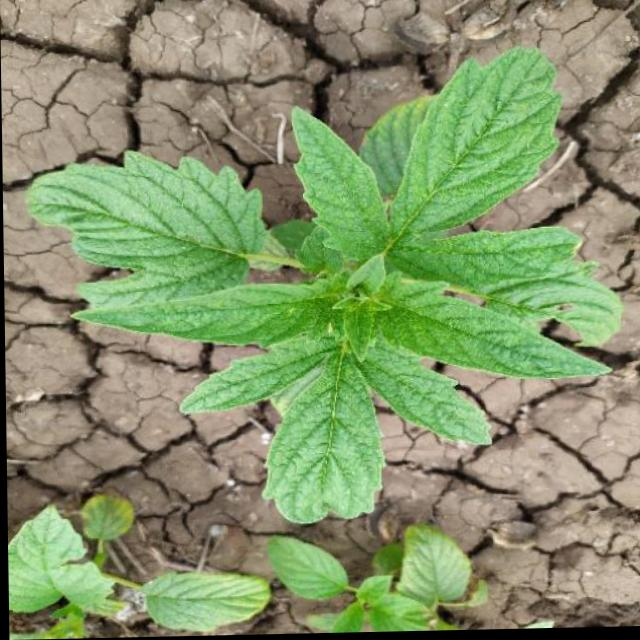crop: (36, 32, 619, 506)
